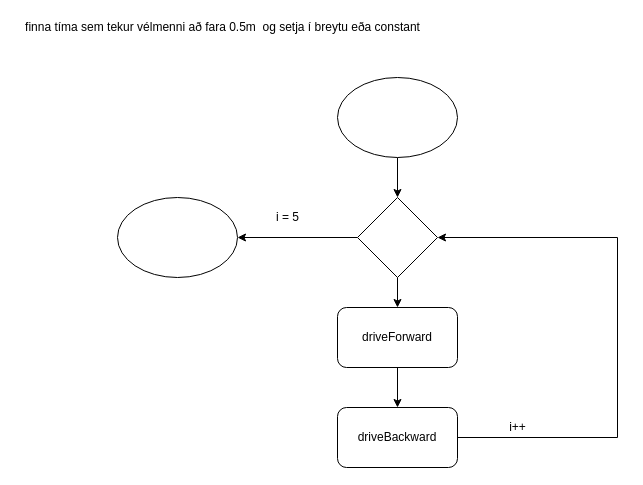
Image size: 643x485. Some labels were removed from this diagram. Here are the shapes that lost their labels. From the top down, the centre of each, then its label:
[397,117]: Start
[177,237]: End
